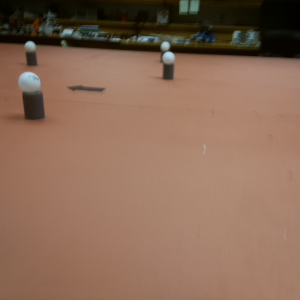obstacle: (18, 71, 47, 120), (22, 39, 39, 65), (162, 52, 176, 82), (160, 41, 171, 63)
